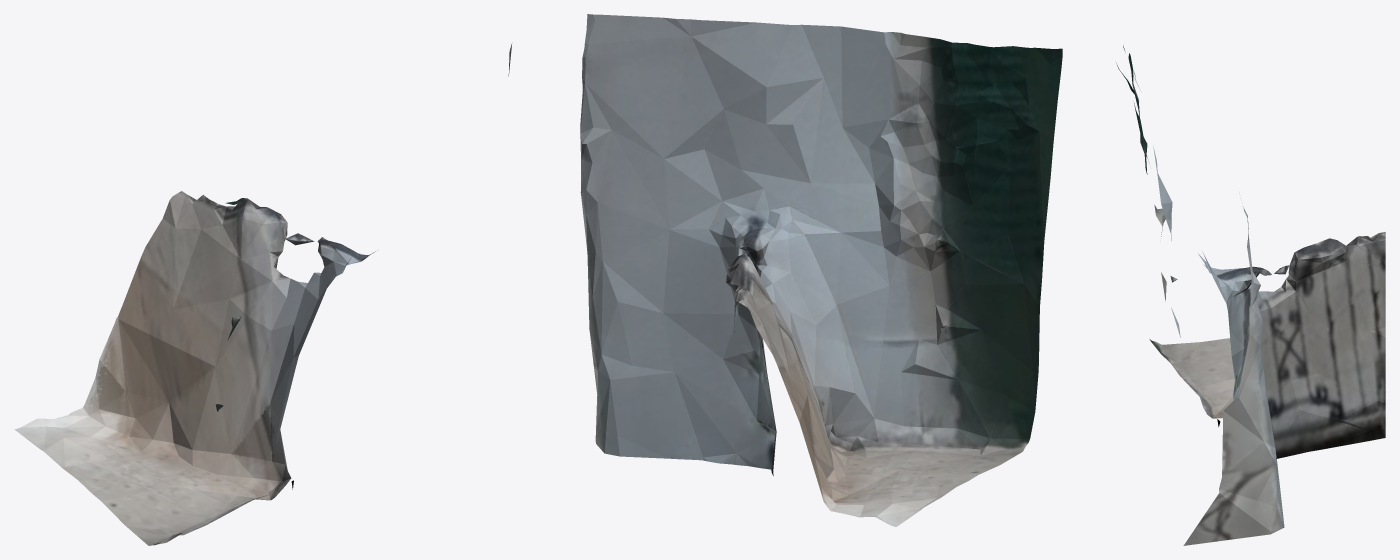
3 views of the same model, side by side, from view 1: azimuth 30°, elevation 25°; view 2: azimuth 150°, elevation 25°; view 3: azimuth 270°, elevation 25° (orthographic). The views are drawn at different scales.
Bounding box in the file's own units: 1.67 × 1.67 × 1.23.
4 materials, 4 textured.
